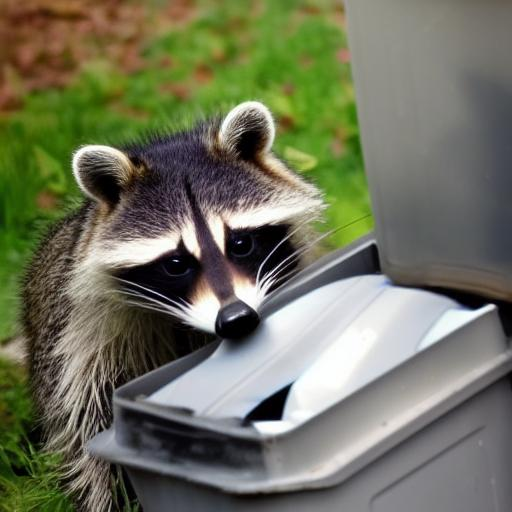raccoon: (13, 92, 343, 492)
